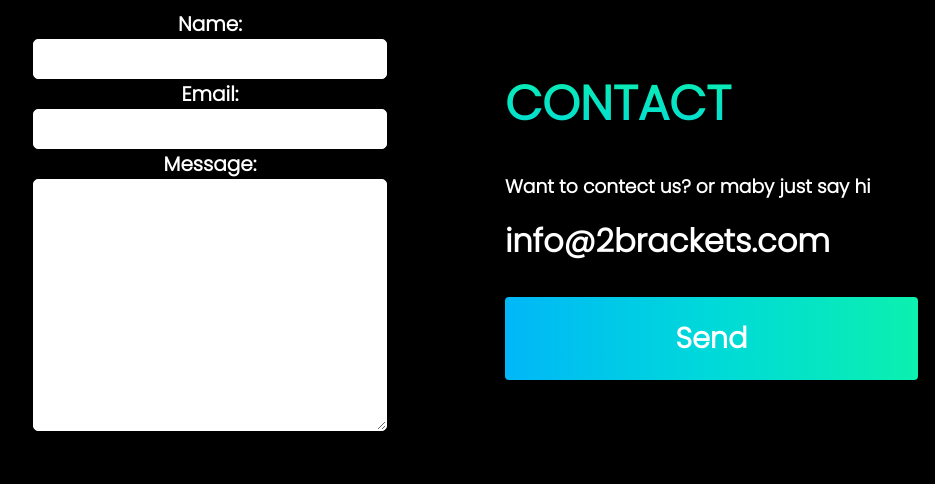
Test: renders status Message with no messages input
This screenshot has width=935, height=484.
Type "Andy Johnsson" into the field with test id "input-name" at (210, 59), box 33,39 -> 387,79
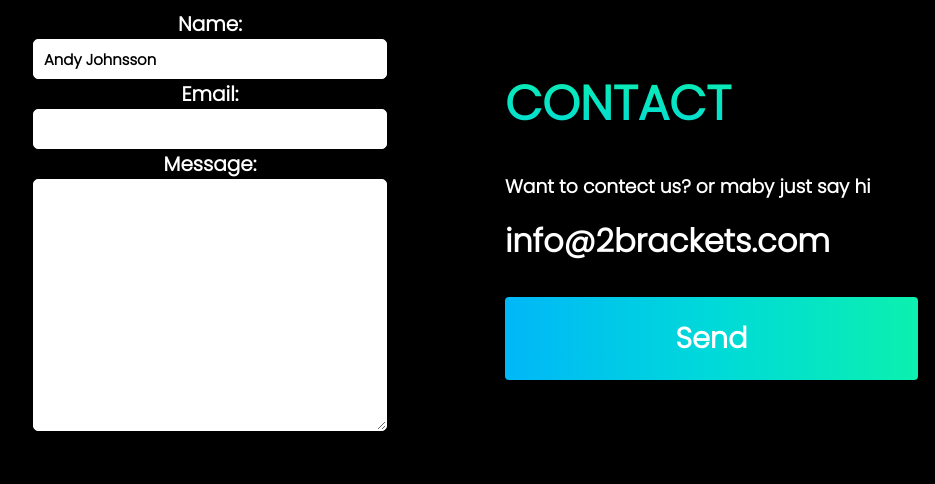
Type "test@test.com" into the field with test id "input-email" at (210, 129), box 33,109 -> 387,149
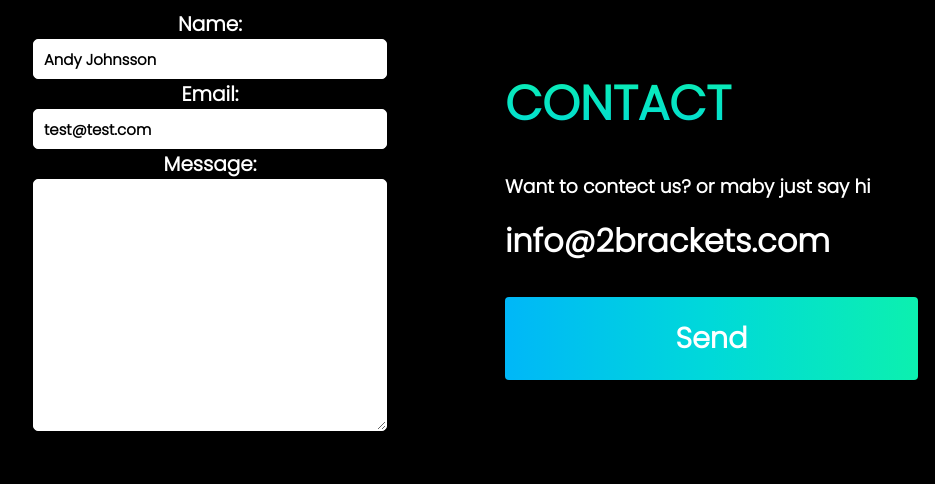
Click the button at (712, 338), box 505,296 -> 918,380
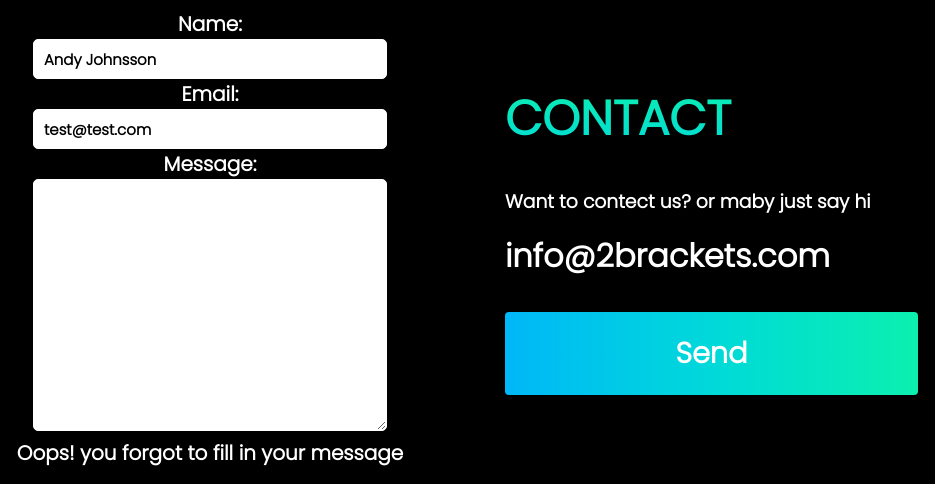
Now the text "Oops! you forgot to fill in your message" is shown, box 17,439 -> 403,467
